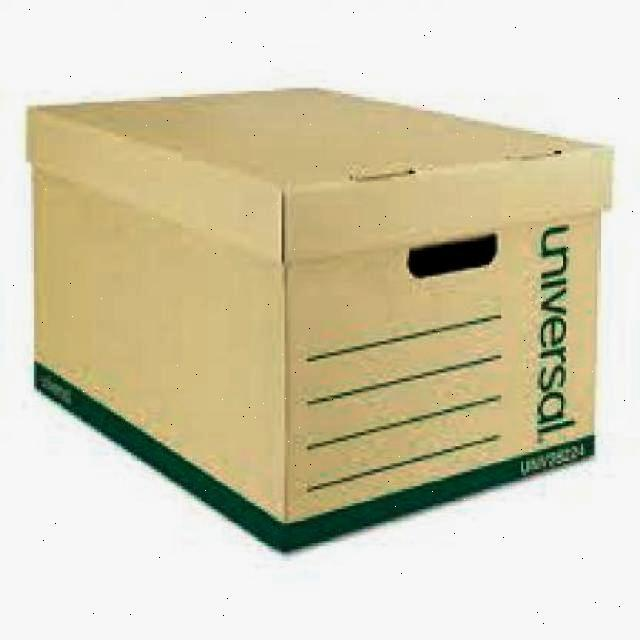box: (24, 87, 615, 555)
normal_hole: (406, 233, 499, 282)
